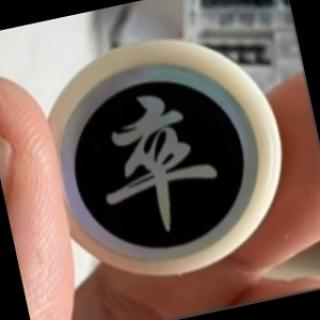qizi: (51, 44, 275, 272)
